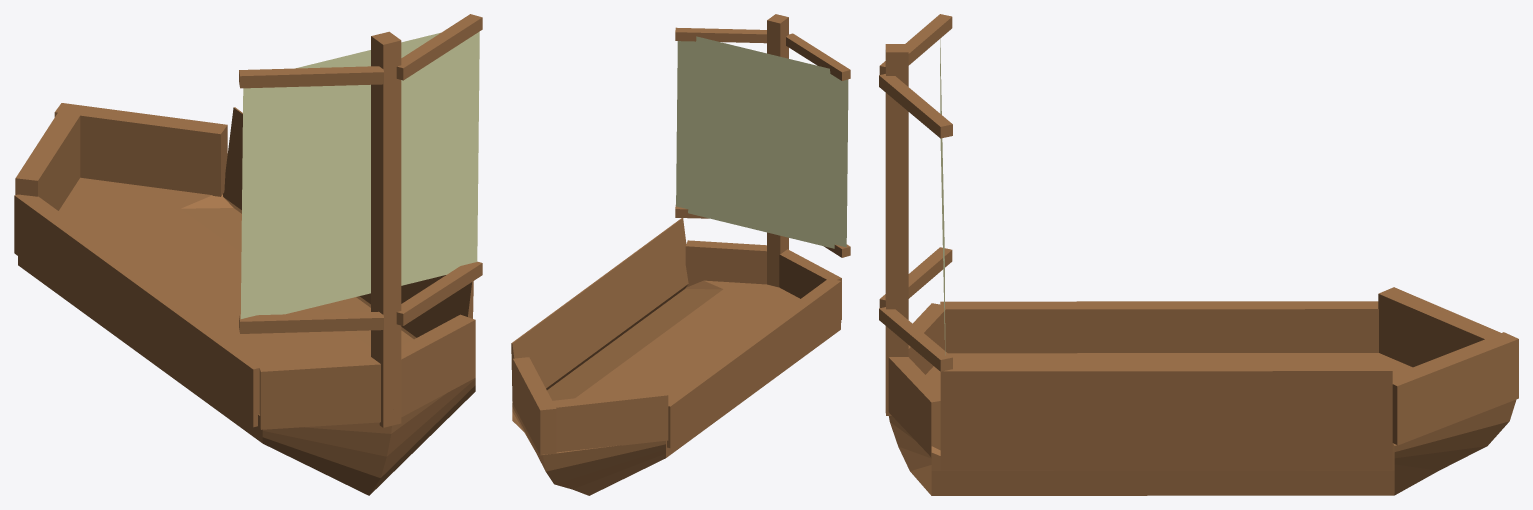
The model's file is Ship.glb.
3 renders of one model, left to right at view 1: azimuth 30°, elevation 25°; view 2: azimuth 150°, elevation 25°; view 3: azimuth 270°, elevation 25°, orthographic. The views are drawn at different scales.
Visible parts, largest first — view 1: Ship, Door; view 2: Ship, Door; view 3: Ship, Door.
Part boxes in pixels (box(x1,y1,x2,y2)): Ship: box(14, 14, 482, 495); Door: box(223, 107, 473, 339); Ship: box(512, 14, 850, 495); Door: box(511, 218, 688, 401); Ship: box(879, 14, 1518, 495); Door: box(940, 370, 1392, 470).
Size of the model in its own units: 6.2 by 11.51 by 14.93.
